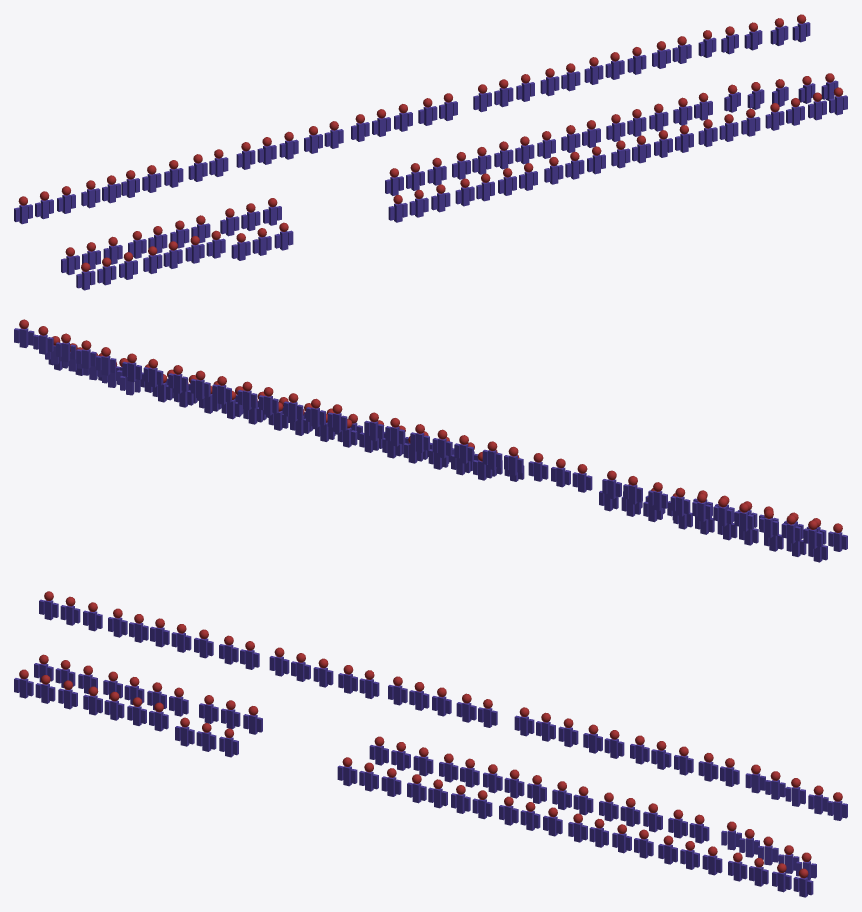
File: supporter3.obj
3 renders of one model, top to bottom at view 1: azimuth 30°, elevation 25°; view 2: azimuth 150°, elevation 25°; view 3: azimuth 330°, elevation 25°, orthographic. The views are drawn at different scales.
Size of the model in its own units: 95.91 by 8.57 by 10.12.
